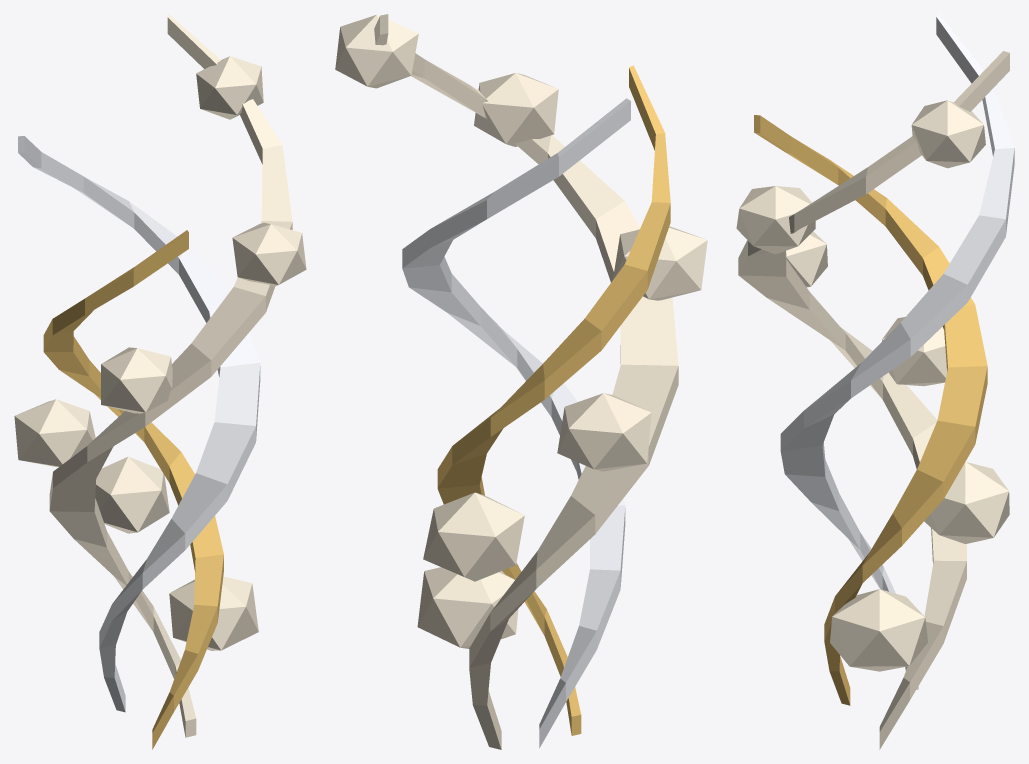
The model's file is fx_cafe_aroma_swirl.glb.
3 renders of one model, left to right at view 1: azimuth 30°, elevation 25°; view 2: azimuth 150°, elevation 25°; view 3: azimuth 270°, elevation 25°, orthographic. The views are drawn at different scales.
Visible parts, largest first — view 1: fx_cafe_aroma_swirl_aroma_cream, fx_cafe_aroma_swirl_aroma_white, fx_cafe_aroma_swirl_aroma_gold; view 2: fx_cafe_aroma_swirl_aroma_cream, fx_cafe_aroma_swirl_aroma_white, fx_cafe_aroma_swirl_aroma_gold; view 3: fx_cafe_aroma_swirl_aroma_cream, fx_cafe_aroma_swirl_aroma_white, fx_cafe_aroma_swirl_aroma_gold.
Part boxes in pixels (box(x1,y1,x2,y2)): fx_cafe_aroma_swirl_aroma_cream: box(14, 14, 306, 737); fx_cafe_aroma_swirl_aroma_white: box(18, 136, 260, 712); fx_cafe_aroma_swirl_aroma_gold: box(43, 230, 223, 749); fx_cafe_aroma_swirl_aroma_cream: box(335, 14, 707, 749); fx_cafe_aroma_swirl_aroma_white: box(402, 98, 630, 748); fx_cafe_aroma_swirl_aroma_gold: box(437, 65, 670, 735); fx_cafe_aroma_swirl_aroma_cream: box(736, 51, 1009, 749); fx_cafe_aroma_swirl_aroma_white: box(780, 14, 1014, 689); fx_cafe_aroma_swirl_aroma_gold: box(754, 115, 987, 705).
Size of the model in its own units: 0.3999 by 1.01 by 0.3545.
